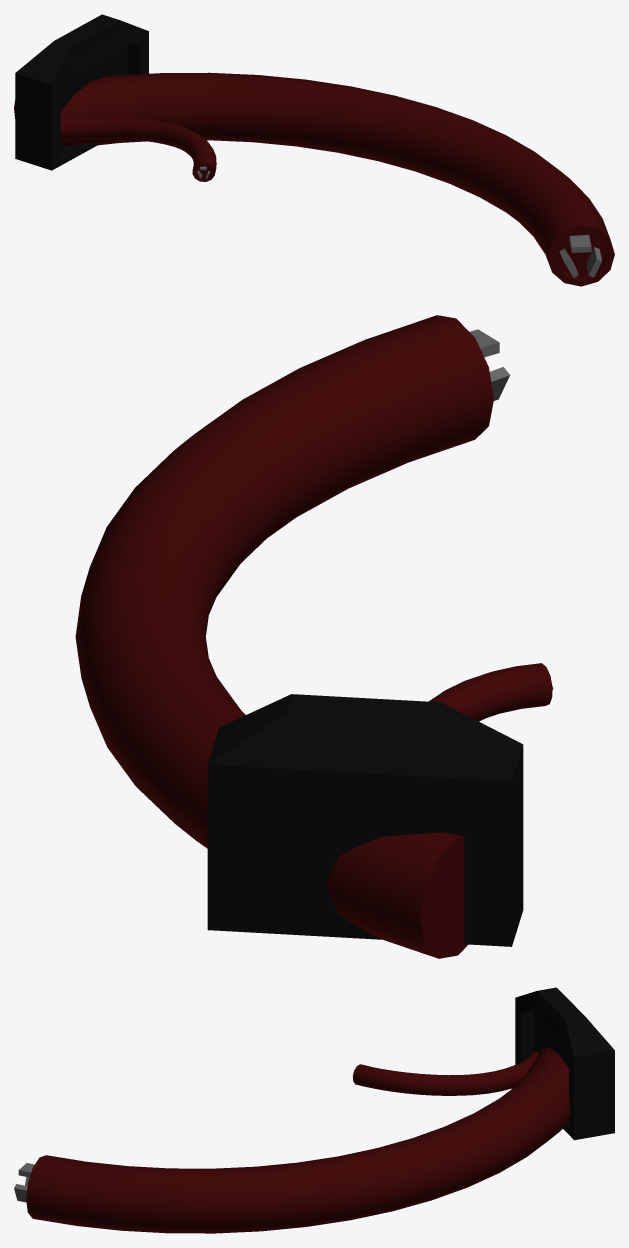
The model's file is gros_cables.fbx.
3 views of the same model, one above another, from view 1: azimuth 30°, elevation 25°; view 2: azimuth 150°, elevation 25°; view 3: azimuth 270°, elevation 25° (orthographic). The views are drawn at different scales.
Parts seen in each view (by area): view 1: Cylinder042, Box036, Cylinder043; view 2: Cylinder042, Box036, Cylinder043; view 3: Cylinder042, Box036, Cylinder043.
Part boxes in pixels (x1,y1,x2,y2): Cylinder042: (14, 72, 614, 286); Box036: (15, 14, 148, 170); Cylinder043: (60, 117, 216, 181); Cylinder042: (75, 315, 493, 958); Box036: (207, 694, 523, 946); Cylinder043: (429, 663, 552, 721); Cylinder042: (26, 1047, 570, 1233); Box036: (515, 987, 614, 1140); Cylinder043: (352, 1051, 538, 1095).
Size of the model in its own units: 15.29 by 4.59 by 23.19.
